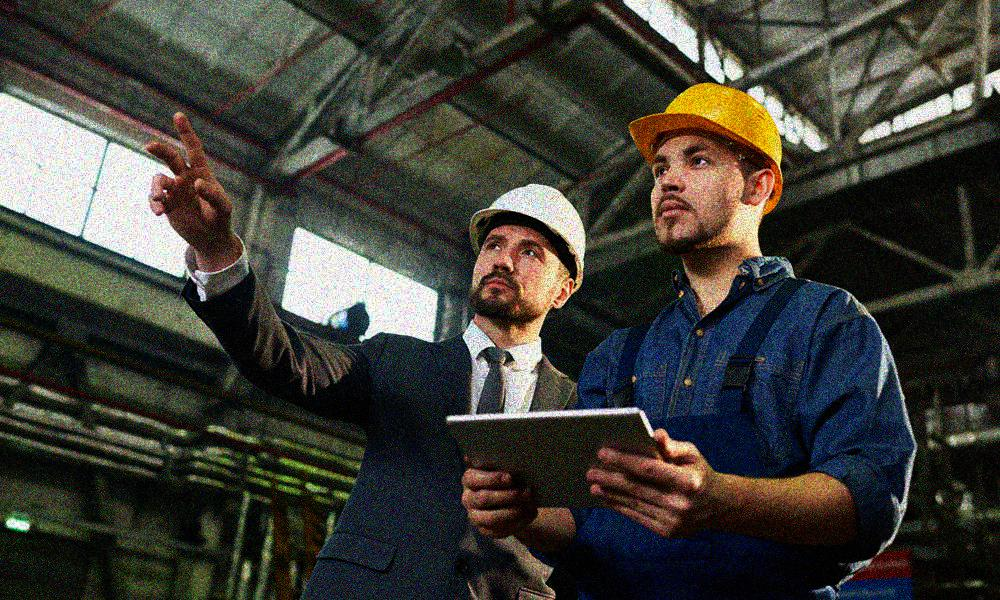helmet: (624, 82, 783, 248), (464, 184, 588, 326)
